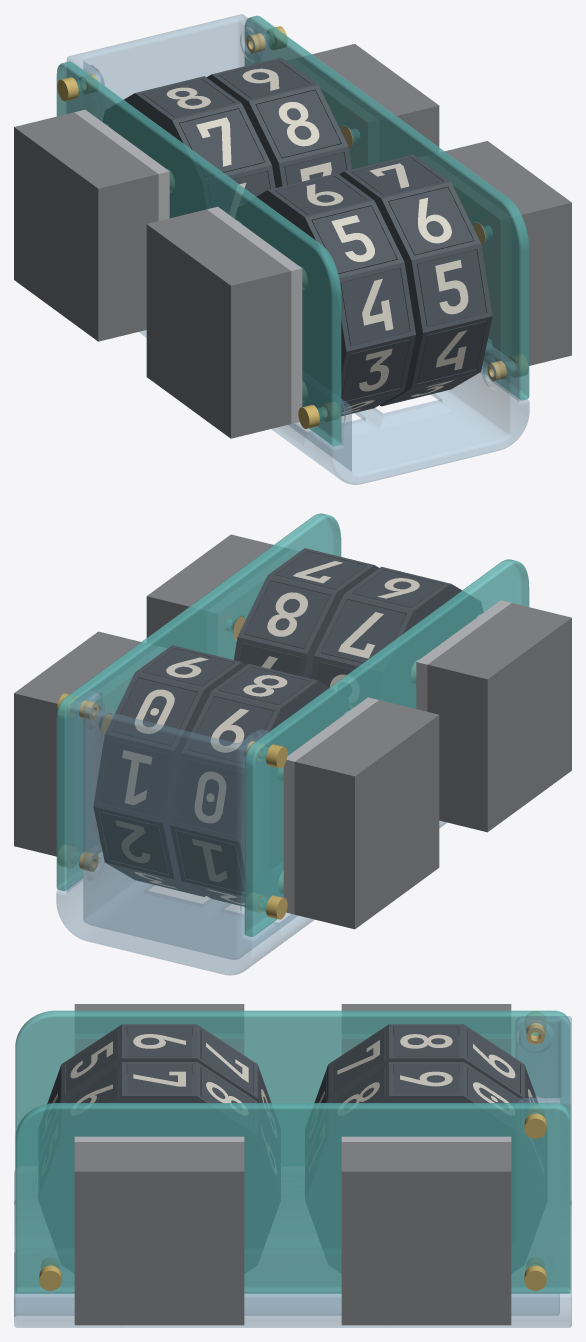
The model's file is assembly_reference.glb.
3 views of the same model, one above another, from view 1: azimuth 30°, elevation 25°; view 2: azimuth 150°, elevation 25°; view 3: azimuth 270°, elevation 25° (orthographic).
Parts seen in each view (by area): view 1: part_3, part_8, part_2, part_0, part_21, part_1, part_20, part_7, part_22, part_26, part_27, part_23 (+3 smaller); view 2: part_0, part_8, part_3, part_7, part_26, part_1, part_20, part_2, part_27, part_21, part_22, part_28 (+3 smaller); view 3: part_20, part_22, part_27, part_1, part_21, part_26, part_0, part_2, part_7, part_3, part_8, part_23 (+6 smaller).
Boxes of the visible parts, box(x1,y1,x2,y2) form: part_3: box(146, 209, 291, 438); part_8: box(14, 112, 158, 341); part_2: box(236, 173, 415, 415); part_0: box(67, 14, 529, 484); part_21: box(339, 154, 492, 406); part_1: box(56, 61, 341, 446); part_20: box(244, 15, 529, 400); part_7: box(103, 76, 275, 217); part_22: box(429, 141, 571, 365); part_26: box(206, 57, 351, 187); part_27: box(296, 44, 439, 161); part_23: box(420, 156, 510, 363); part_0: box(56, 689, 446, 975); part_8: box(294, 700, 439, 929); part_3: box(427, 603, 571, 832); part_7: box(170, 664, 349, 906); part_26: box(93, 645, 246, 896); part_1: box(244, 559, 529, 936); part_20: box(56, 513, 341, 891); part_2: box(310, 566, 482, 708); part_27: box(14, 631, 157, 856); part_21: box(234, 548, 378, 678); part_22: box(146, 534, 289, 652); part_28: box(83, 647, 166, 853); part_20: box(15, 1103, 570, 1293); part_22: box(74, 1142, 244, 1325); part_27: box(341, 1142, 511, 1325); part_1: box(15, 1010, 570, 1167); part_21: box(39, 1062, 280, 1247); part_26: box(305, 1062, 524, 1247); part_0: box(14, 1016, 571, 1327); part_2: box(39, 1024, 280, 1162); part_7: box(305, 1024, 537, 1162); part_3: box(74, 1004, 244, 1032); part_8: box(341, 1004, 511, 1032); part_23: box(74, 1136, 244, 1141).
Size of the model in its own units: 98 by 63.5 by 138.
